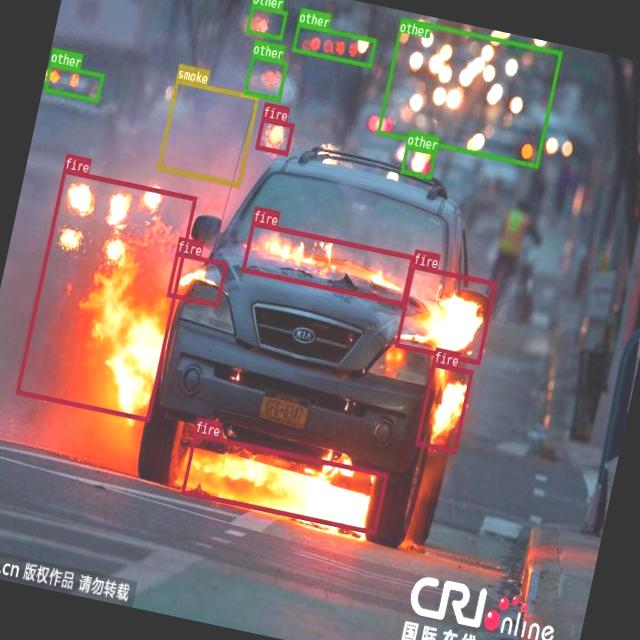fire: (15, 168, 196, 421), (180, 432, 388, 534), (241, 220, 414, 305), (394, 264, 496, 364), (414, 360, 472, 452), (166, 251, 227, 306), (254, 116, 294, 154)
smoke: (156, 78, 258, 186)
